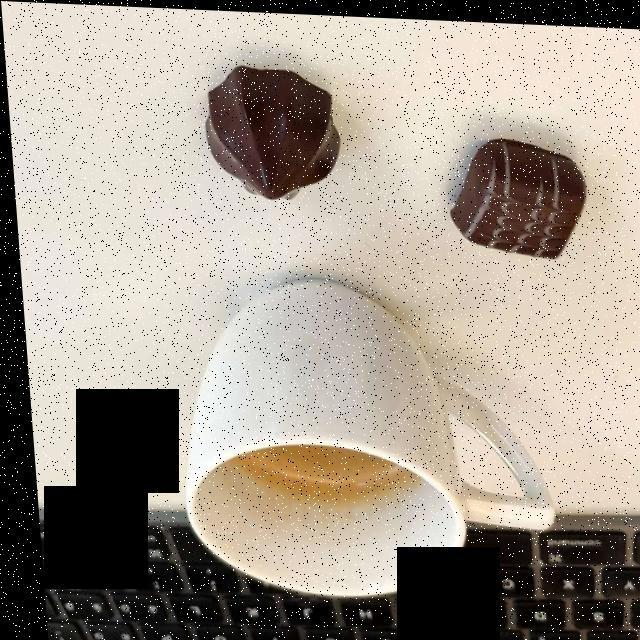coffee: (231, 445, 400, 499)
